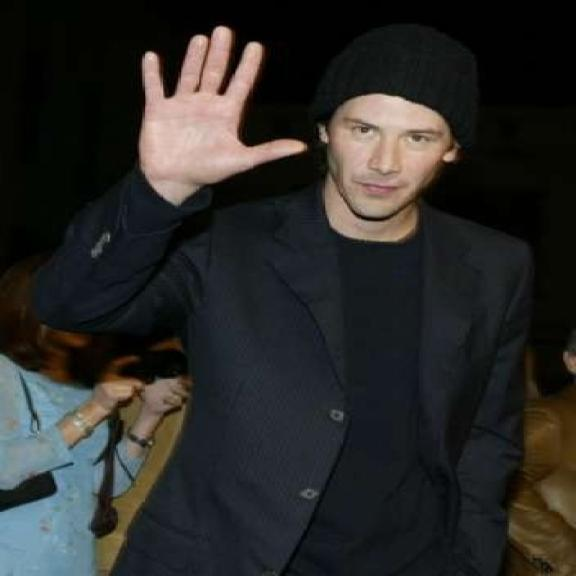face: (312, 58, 467, 220)
